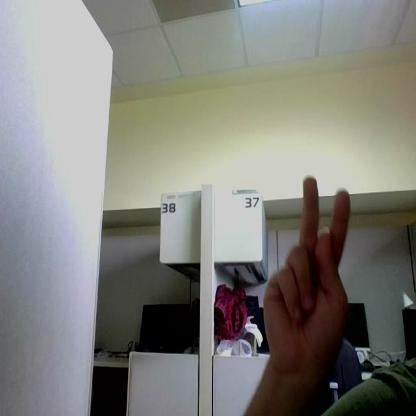K: (264, 178, 350, 363)
